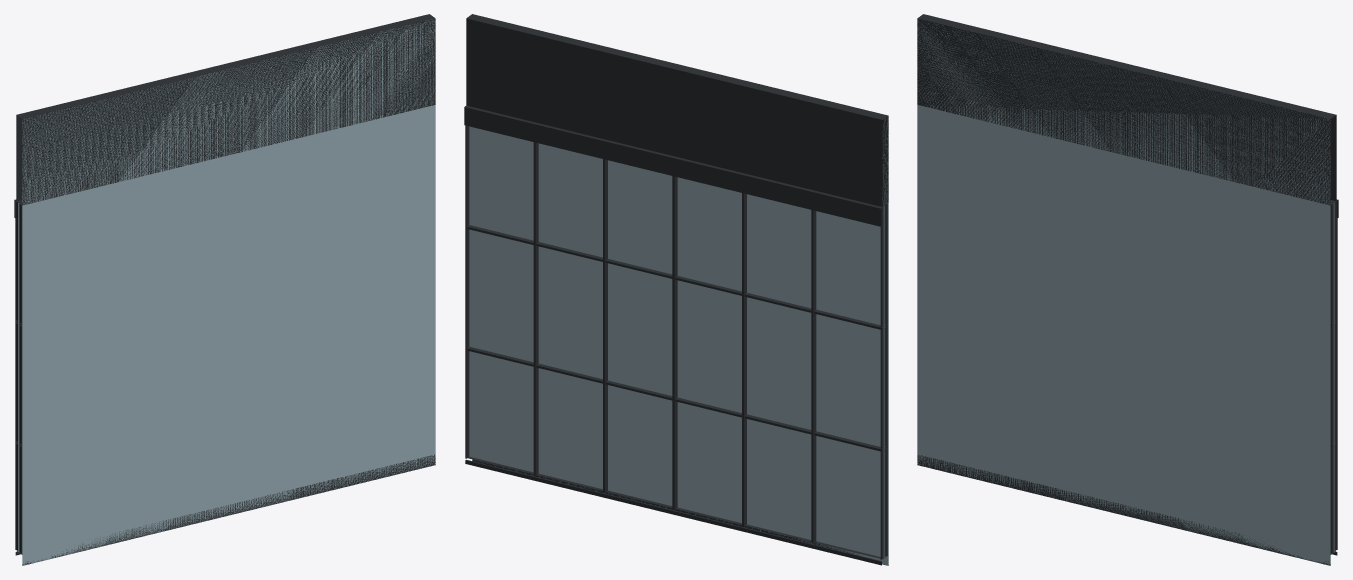
The model's file is terminal_facade_glass.glb.
3 views of the same model, side by side, from view 1: azimuth 30°, elevation 25°; view 2: azimuth 150°, elevation 25°; view 3: azimuth 330°, elevation 25° (orthographic).
Parts seen in each view (by area): view 1: terminal_facade_glass_lodfar, terminal_facade_glass; view 2: terminal_facade_glass, terminal_facade_glass_lodfar; view 3: terminal_facade_glass_lodfar, terminal_facade_glass.
Boxes of the visible parts, <box> form: terminal_facade_glass_lodfar: <box>22,18,435,565</box>; terminal_facade_glass: <box>14,14,435,565</box>; terminal_facade_glass: <box>464,14,888,565</box>; terminal_facade_glass_lodfar: <box>473,116,888,565</box>; terminal_facade_glass_lodfar: <box>917,19,1330,565</box>; terminal_facade_glass: <box>917,14,1338,565</box>.
Size of the model in its own units: 12 by 12.4 by 0.4.
